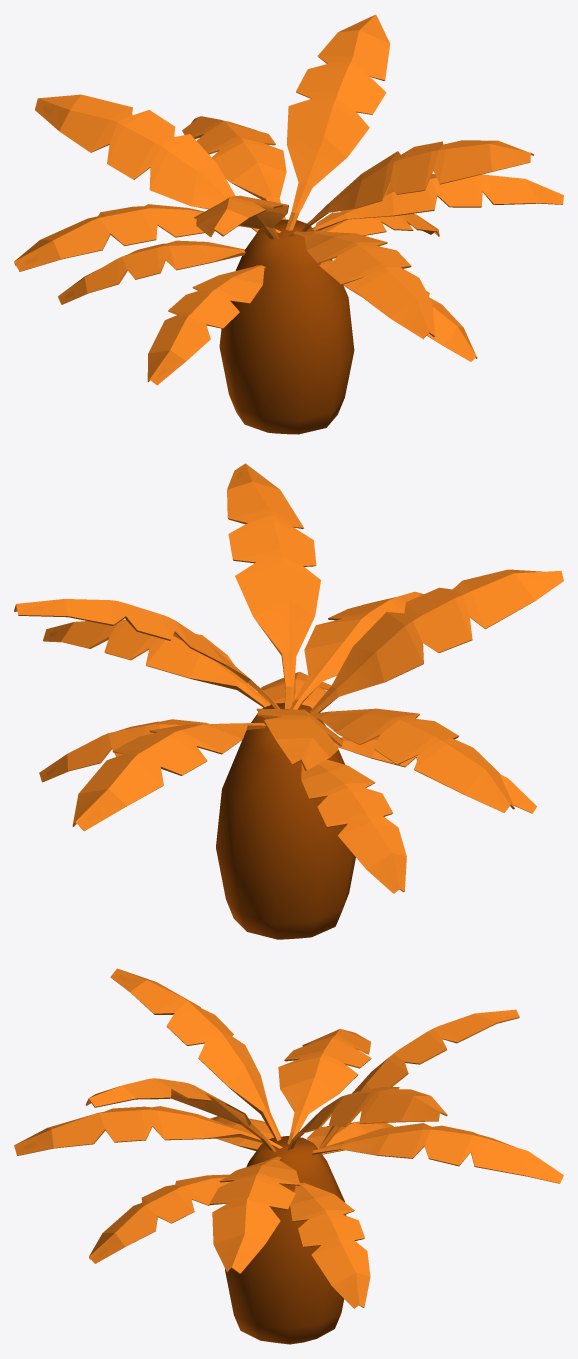
Rendered from Tree_13_Fall.fbx.
The picture shows the model from 3 angles, top to bottom: view 1: azimuth 30°, elevation 25°; view 2: azimuth 150°, elevation 25°; view 3: azimuth 270°, elevation 25°; orthographic projection. The views are drawn at different scales.
Visible parts, largest first — view 1: Tree_13_p2_Fall, Tree_13_p1_Fall; view 2: Tree_13_p2_Fall, Tree_13_p1_Fall; view 3: Tree_13_p2_Fall, Tree_13_p1_Fall.
Boxes of the visible parts, <box> form: Tree_13_p2_Fall: <box>14,14,563,385</box>; Tree_13_p1_Fall: <box>219,219,354,434</box>; Tree_13_p2_Fall: <box>14,463,563,893</box>; Tree_13_p1_Fall: <box>216,702,355,939</box>; Tree_13_p2_Fall: <box>14,968,563,1308</box>; Tree_13_p1_Fall: <box>225,1136,346,1344</box>.
Bounding box in the file's own units: 508 × 314 × 515.
